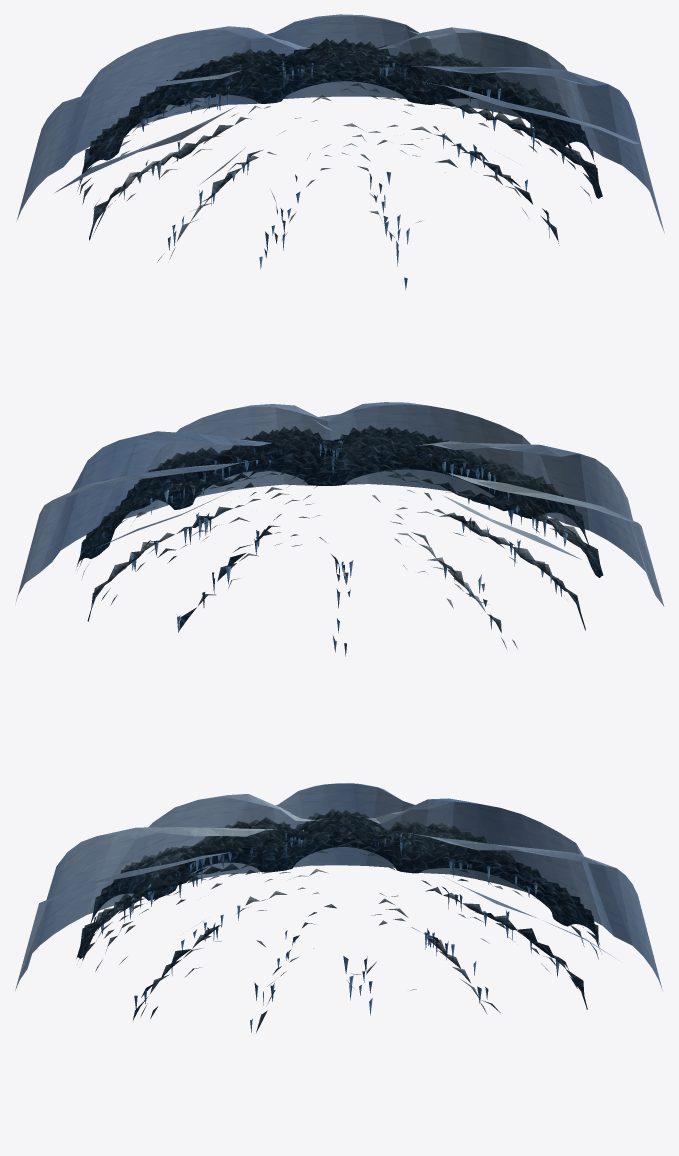
Rendered from ice_roof.glb.
The picture shows the model from 3 angles, top to bottom: view 1: azimuth 30°, elevation 25°; view 2: azimuth 150°, elevation 25°; view 3: azimuth 270°, elevation 25°; orthographic projection.
Parts seen in each view (by area): view 1: IceRoofOuter, IceRoof, IceRoofIcicles; view 2: IceRoofOuter, IceRoof, IceRoofIcicles; view 3: IceRoofOuter, IceRoof, IceRoofIcicles.
Part boxes in pixels (x1,y1,x2,y2): IceRoofOuter: (17,14,664,232); IceRoof: (77,38,602,262); IceRoofIcicles: (123,56,564,289); IceRoofOuter: (16,402,664,606); IceRoof: (77,425,603,648); IceRoofIcicles: (131,440,567,656); IceRoofOuter: (15,783,662,990); IceRoof: (76,809,600,1032); IceRoofIcicles: (100,827,559,1032).
Size of what is drawn, in the model's own units: 138 by 38.58 by 137.
Materials: 3 (3 with a texture image).
